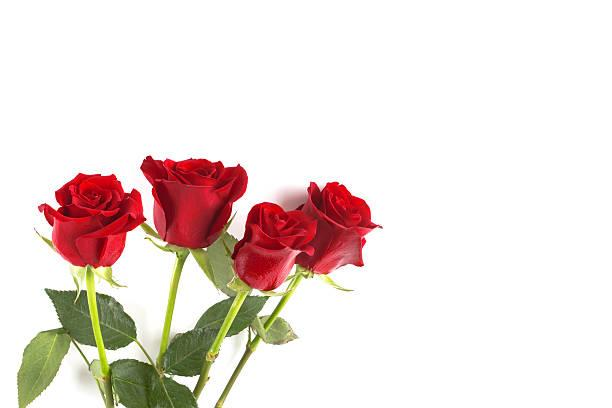Rose: (134, 149, 249, 263), (35, 163, 147, 276), (294, 170, 385, 288), (239, 186, 317, 304)
